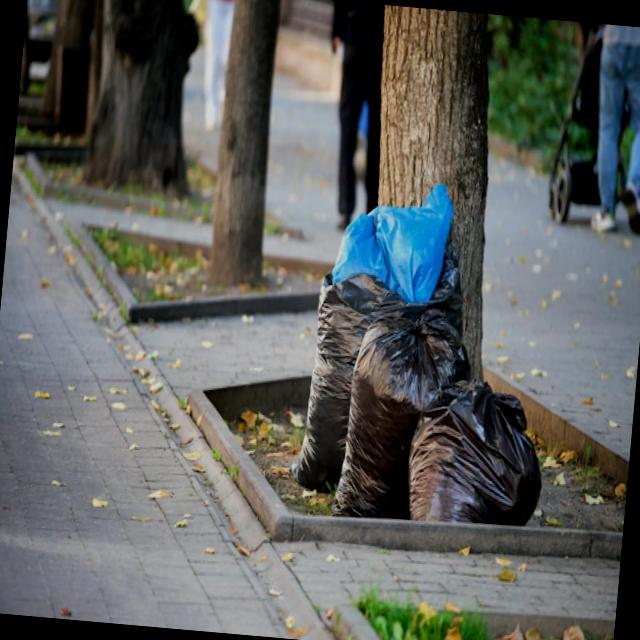garbage: (258, 170, 564, 554)
